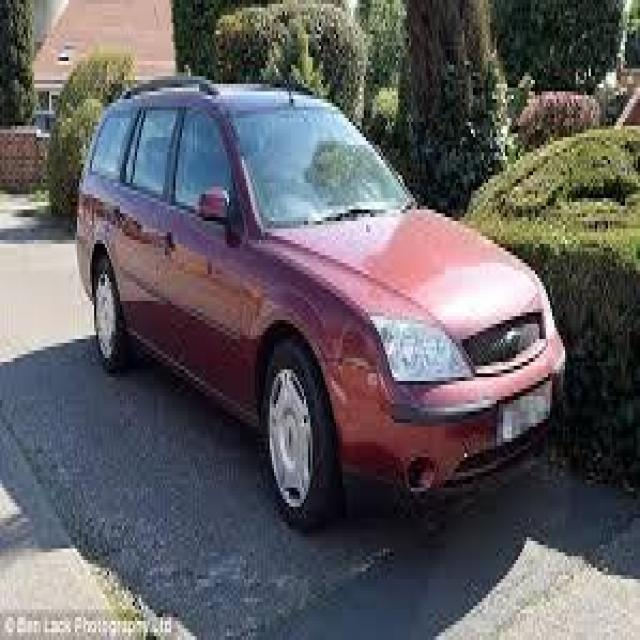damaged: (336, 320, 383, 396)
